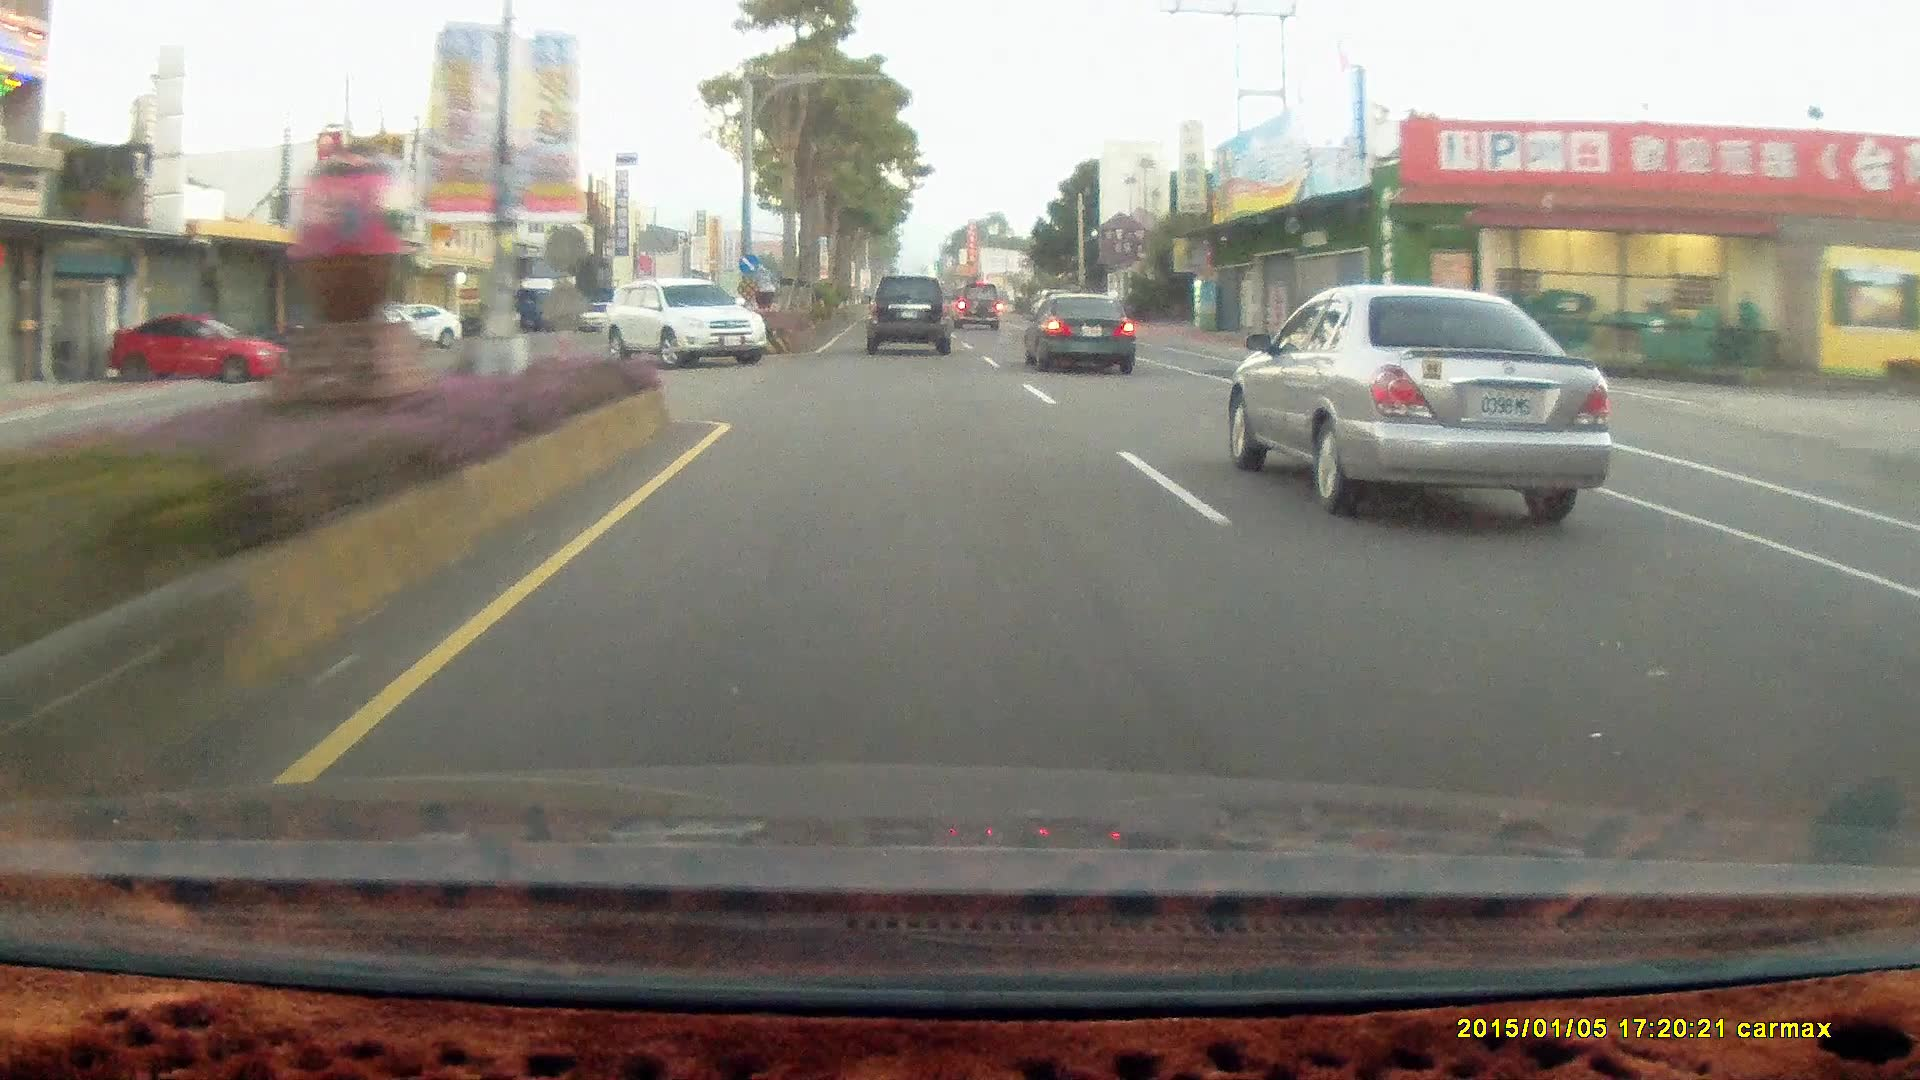vehicle: (1232, 278, 1619, 520), (599, 272, 767, 367), (607, 276, 771, 367), (99, 311, 291, 386), (109, 311, 290, 382), (1022, 287, 1135, 372), (1029, 291, 1139, 376), (866, 276, 959, 356), (865, 276, 949, 353), (364, 301, 462, 348), (952, 281, 1004, 334), (951, 281, 1002, 330)
